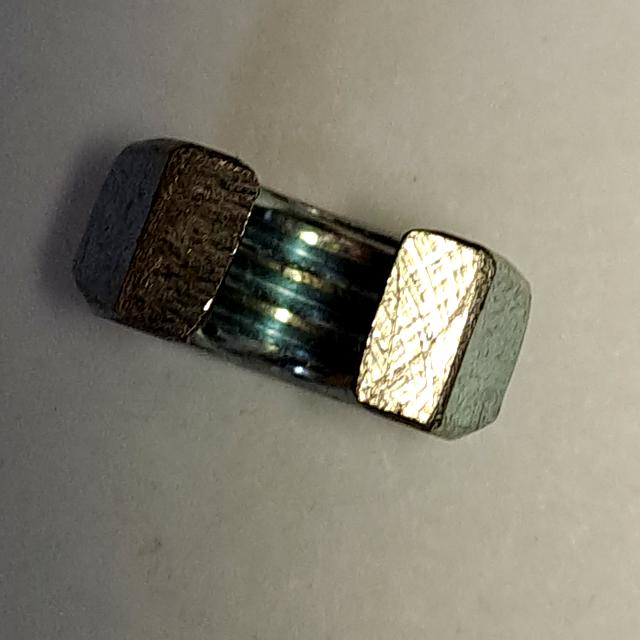Side-Fracture: (57, 124, 553, 461)
